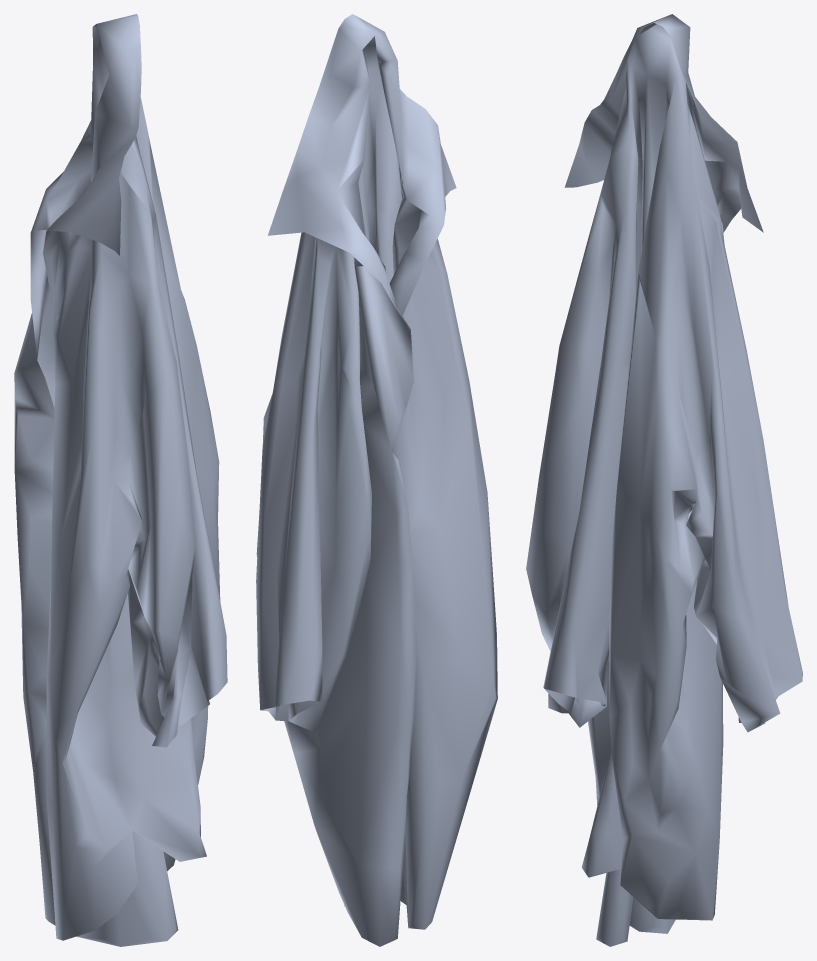
File: Cloth_12.FBX
The picture shows the model from 3 angles, left to right: view 1: azimuth 30°, elevation 25°; view 2: azimuth 150°, elevation 25°; view 3: azimuth 270°, elevation 25°; orthographic projection. The views are drawn at different scales.
Visible parts, largest first — view 1: Shirt_2_006; view 2: Shirt_2_006; view 3: Shirt_2_006.
Part boxes in pixels (x1,y1,x2,y2): Shirt_2_006: (14,14,227,946); Shirt_2_006: (256,14,497,946); Shirt_2_006: (526,14,802,946).
Size of the model in its own units: 182 by 790 by 215.
